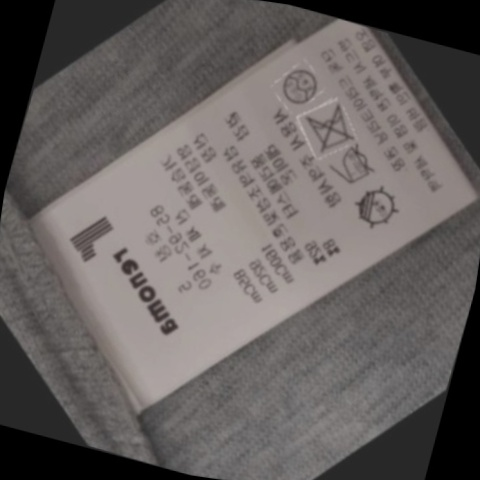DN_wash: (290, 94, 363, 162)
dry_clean_petrol_only: (269, 56, 328, 114)
iron_low: (321, 137, 386, 197)
line_dry_in_shade: (339, 176, 408, 239)
